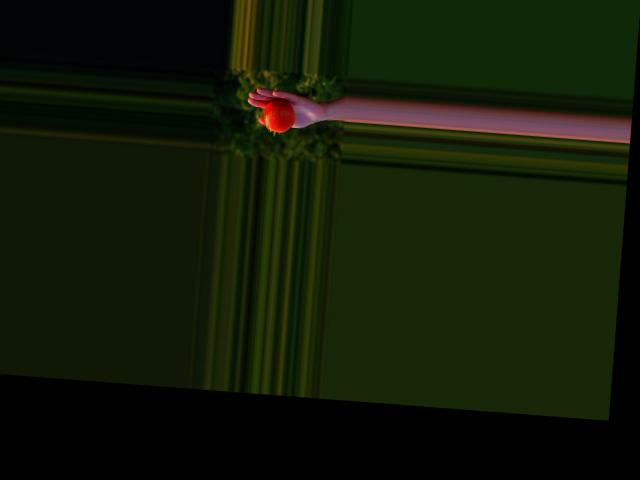tomato: (262, 96, 295, 132)
